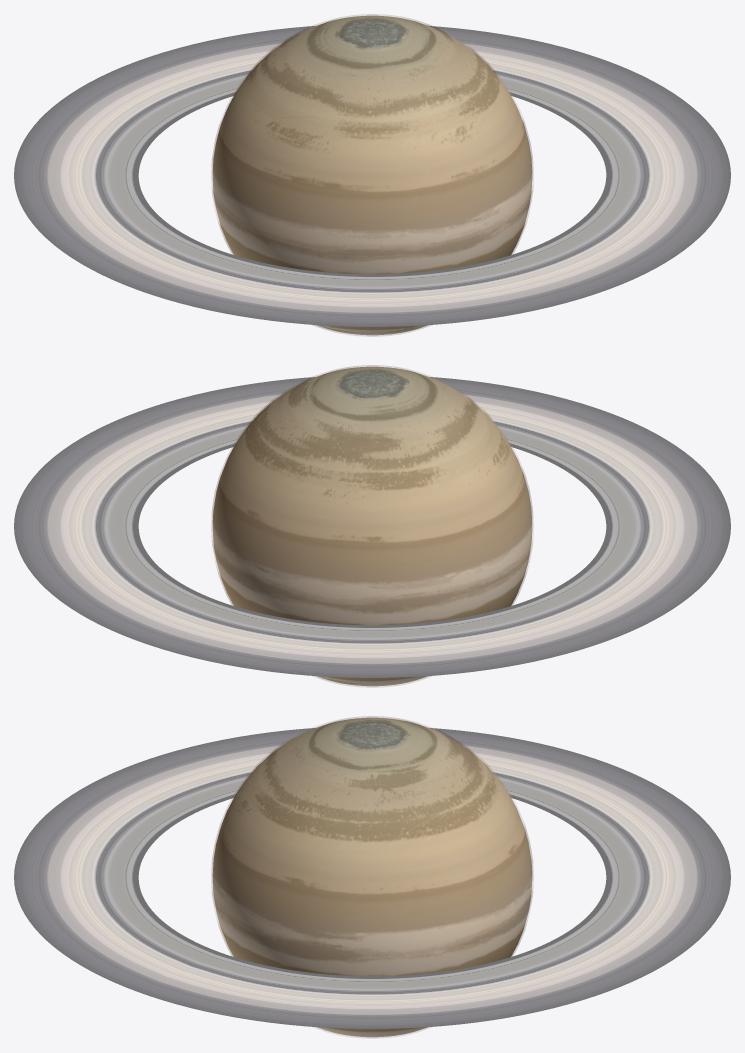
3 renders of one model, top to bottom at view 1: azimuth 30°, elevation 25°; view 2: azimuth 150°, elevation 25°; view 3: azimuth 270°, elevation 25°, orthographic.
Parts seen in each view (by area): view 1: Saturn Rings, Saturn Clouds, Saturn; view 2: Saturn Rings, Saturn Clouds, Saturn; view 3: Saturn Rings, Saturn Clouds, Saturn.
Boxes of the visible parts, box(x1,y1,x2,y2) form: Saturn Rings: box(14, 26, 730, 326); Saturn Clouds: box(211, 14, 533, 336); Saturn: box(212, 15, 532, 335); Saturn Rings: box(14, 377, 730, 677); Saturn Clouds: box(211, 365, 533, 687); Saturn: box(212, 366, 532, 686); Saturn Rings: box(14, 728, 730, 1028); Saturn Clouds: box(211, 716, 533, 1038); Saturn: box(212, 717, 532, 1037).
Size of the model in its own units: 4.64 by 2.09 by 4.64.
3 materials, 3 textured.
